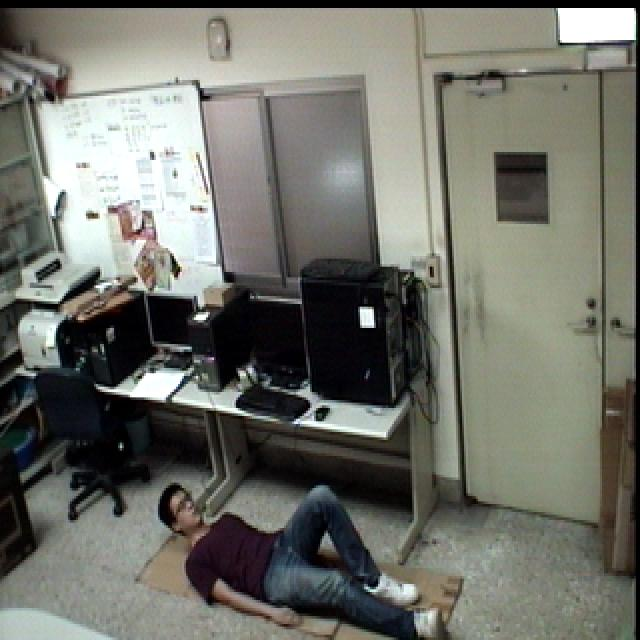lie: (154, 469, 448, 640)
